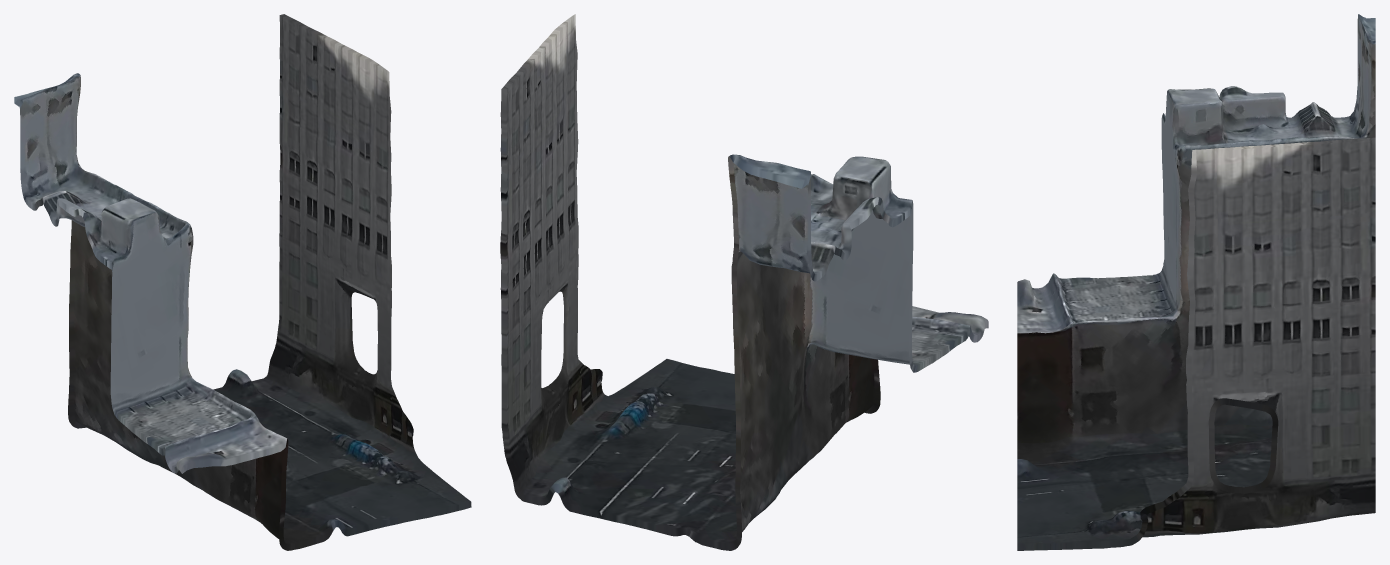
File: z20-167749-405243-h0-yup-uvflip-v3-world.glb
The picture shows the model from 3 angles, left to right: view 1: azimuth 30°, elevation 25°; view 2: azimuth 150°, elevation 25°; view 3: azimuth 270°, elevation 25°; orthographic projection. The views are drawn at different scales.
Size of the model in its own units: 30.2 by 37.48 by 30.32.
1 material, 1 textured.
